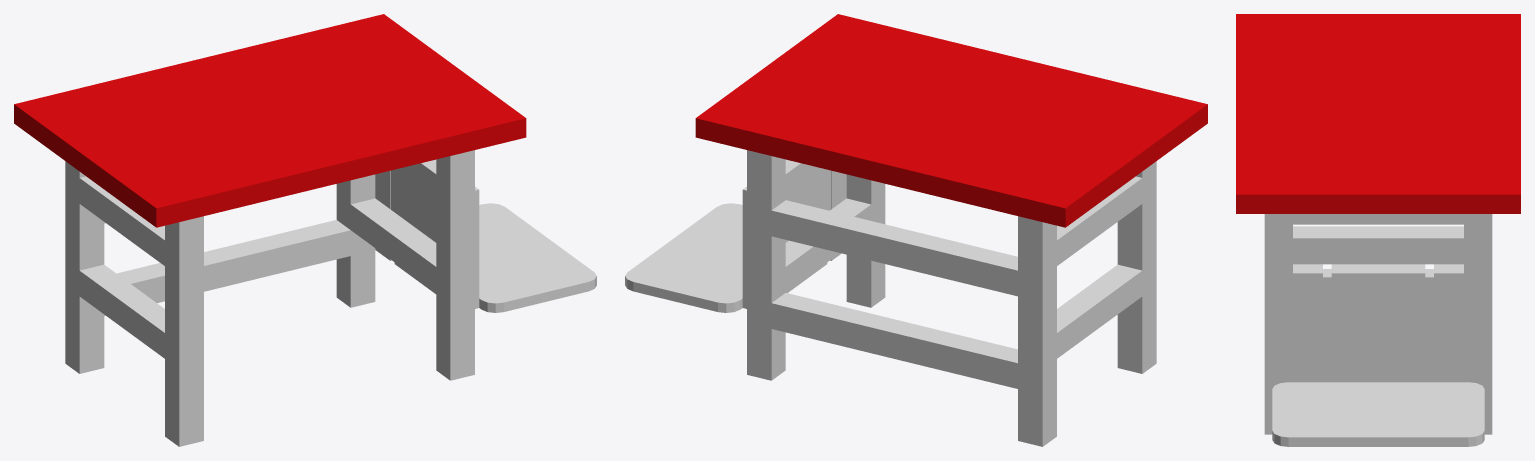
Rendered from PROPS4.fbx.
The picture shows the model from 3 angles, left to right: view 1: azimuth 30°, elevation 25°; view 2: azimuth 150°, elevation 25°; view 3: azimuth 270°, elevation 25°; orthographic projection.
Visible parts, largest first — view 1: PH_SUPPORT_TABLE, Cube.008, Cube.015, Cube.009, Cube.010, Cube.012, Cube.013; view 2: PH_SUPPORT_TABLE, Cube.008, Cube.011, Cube.010, Cube.015, Cube.009, Cube.012, Cube.013; view 3: PH_SUPPORT_TABLE, Cube.013, Cube.015, Cube.008, Cube.012, Cube.009.
Part boxes in pixels (x1,y1,x2,y2): PH_SUPPORT_TABLE: (14, 14, 526, 227); Cube.008: (65, 150, 474, 446); Cube.015: (479, 203, 596, 312); Cube.009: (79, 198, 436, 358); Cube.010: (104, 220, 350, 315); Cube.012: (79, 159, 436, 265); Cube.013: (375, 169, 479, 308); PH_SUPPORT_TABLE: (695, 14, 1207, 227); Cube.008: (747, 150, 1156, 446); Cube.011: (771, 200, 1017, 296); Cube.010: (771, 293, 1017, 388); Cube.015: (625, 203, 742, 312); Cube.009: (785, 198, 1142, 358); Cube.012: (785, 159, 1142, 265); Cube.013: (742, 169, 846, 308); PH_SUPPORT_TABLE: (1236, 14, 1520, 213); Cube.013: (1293, 264, 1463, 382); Cube.015: (1272, 382, 1484, 446); Cube.008: (1264, 214, 1492, 434); Cube.012: (1293, 226, 1463, 264); Cube.009: (1293, 214, 1463, 224).
Size of the model in its own units: 188 by 100 by 100.
